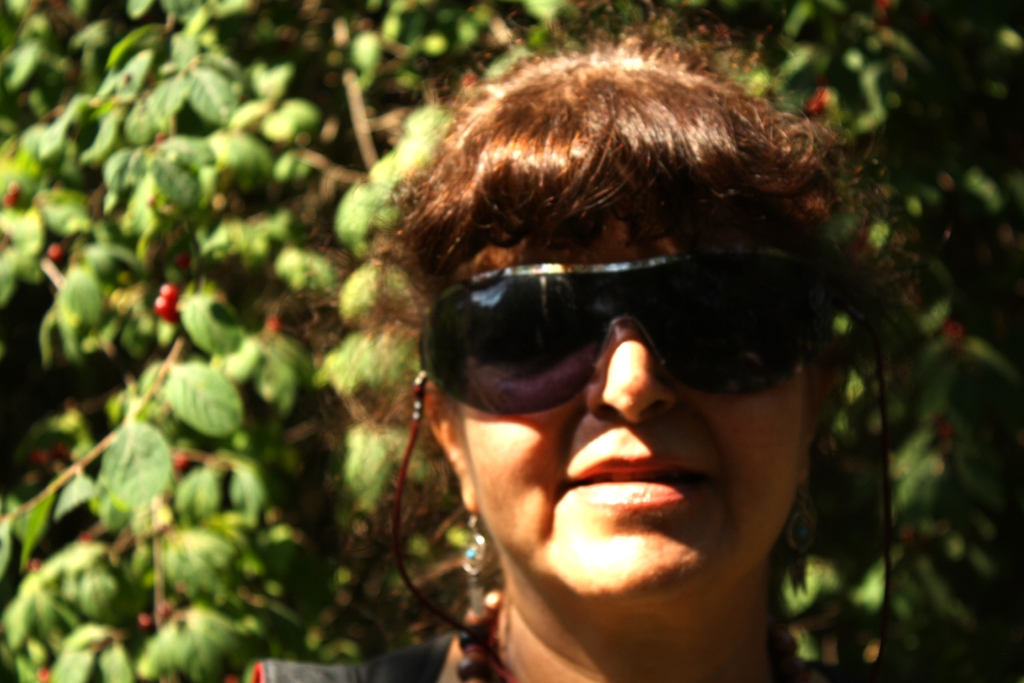Human-face: (476, 220, 815, 609)
